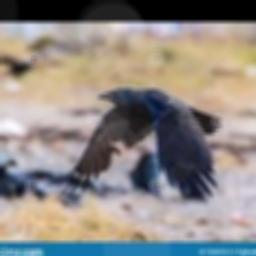Crow: (63, 86, 223, 202)
